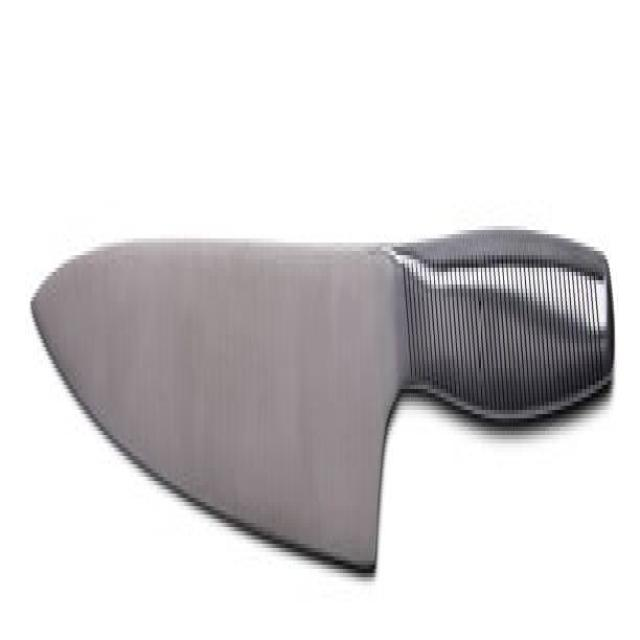knife: (26, 191, 624, 591)
